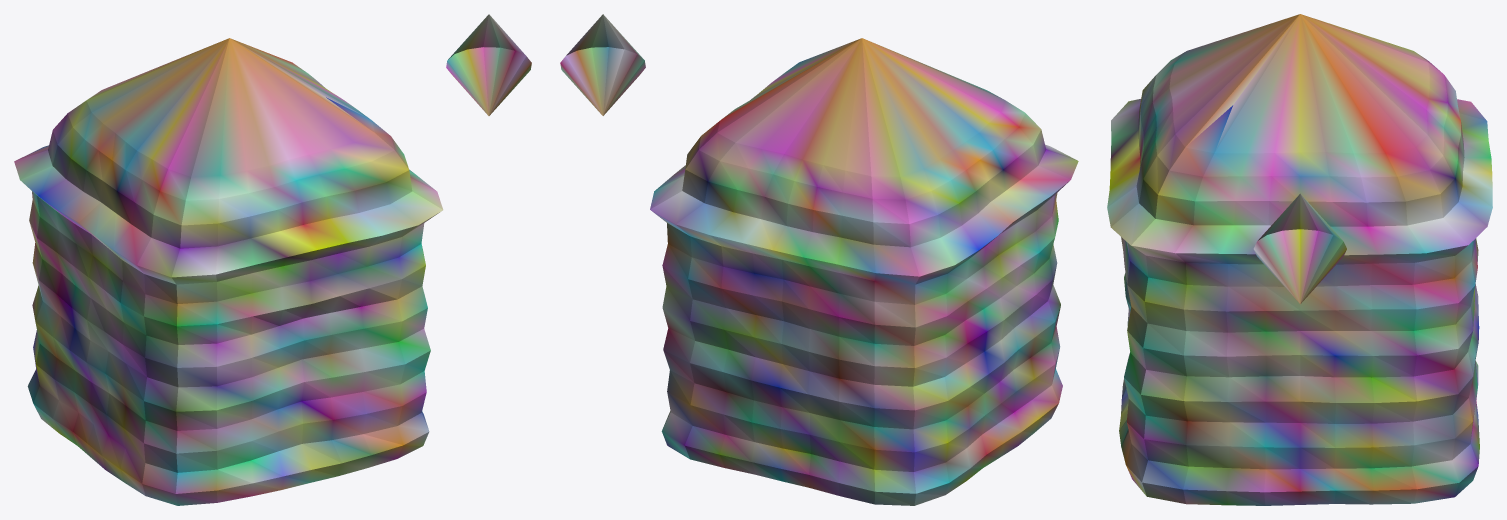
Rendered from stage4r_target_null_generated.glb.
The picture shows the model from 3 angles, left to right: view 1: azimuth 30°, elevation 25°; view 2: azimuth 150°, elevation 25°; view 3: azimuth 270°, elevation 25°; orthographic projection. The views are drawn at different scales.
Parts seen in each view (by area): view 1: generated_topology; view 2: generated_topology; view 3: generated_topology.
Boxes of the visible parts, x1,y1,x2,y2 form: generated_topology: (14,14,531,505); generated_topology: (560,14,1078,505); generated_topology: (1107,14,1492,505).
Size of the model in its own units: 7.82 by 6.4 by 5.35.
